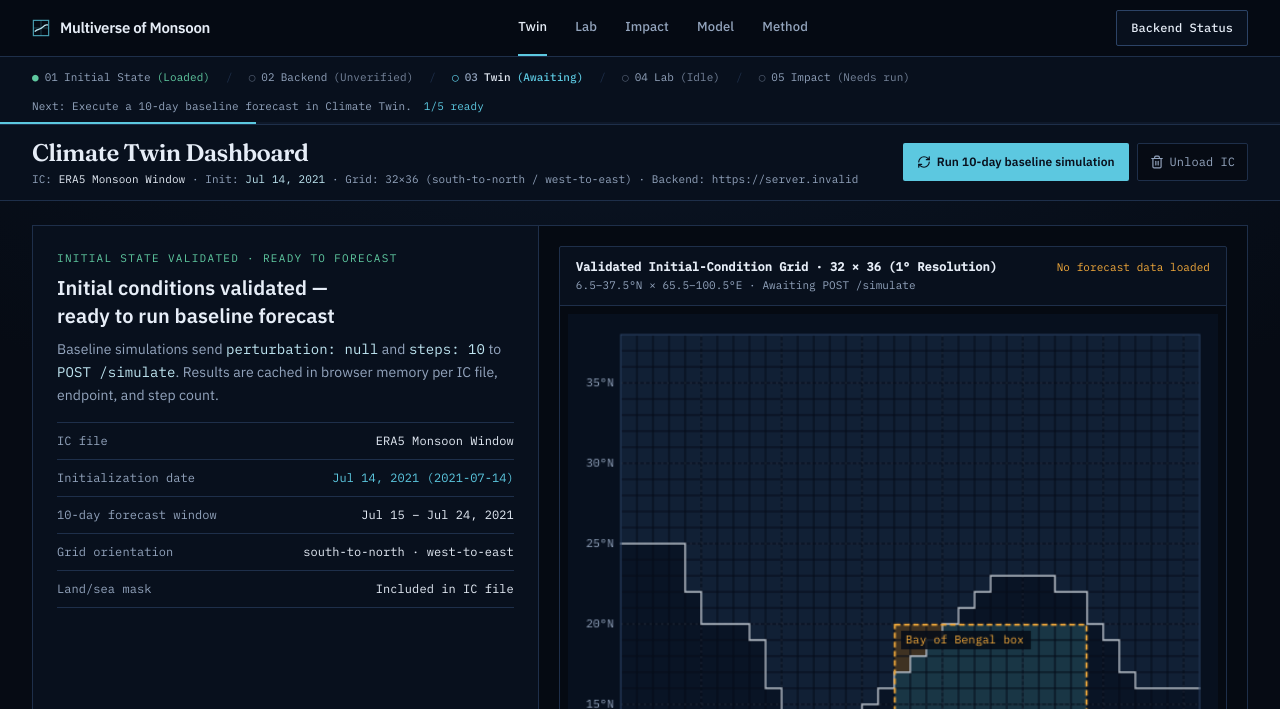
Phase 2A Climate Twin Dashboard (/twin) › derives and renders accurate calendar forecast dates from IC init_date on /twin
Earlier steps of the test are not shown.
expect the text "Jul 14, 2021 (2021-07-14)" is shown: met, box [332,470,514,486]
expect the text "Jul 15 – Jul 24, 2021" is shown: met, box [361,507,514,523]
Step 1. Click the button "Run 10-day baseline simulation" → (1016, 162), box [903,143,1129,181]
(page scrolled)
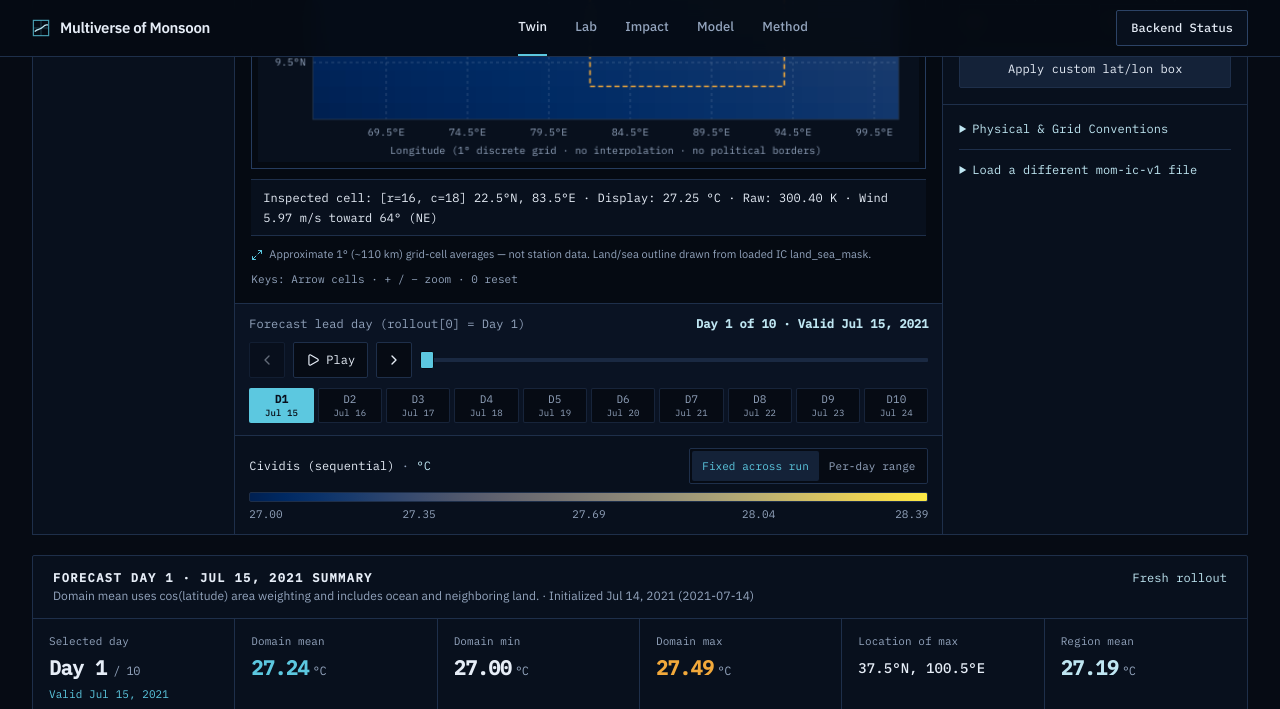
Step 2. Click the button named "Next forecast day" → (394, 360), box [376,342,412,378]
(page scrolled)
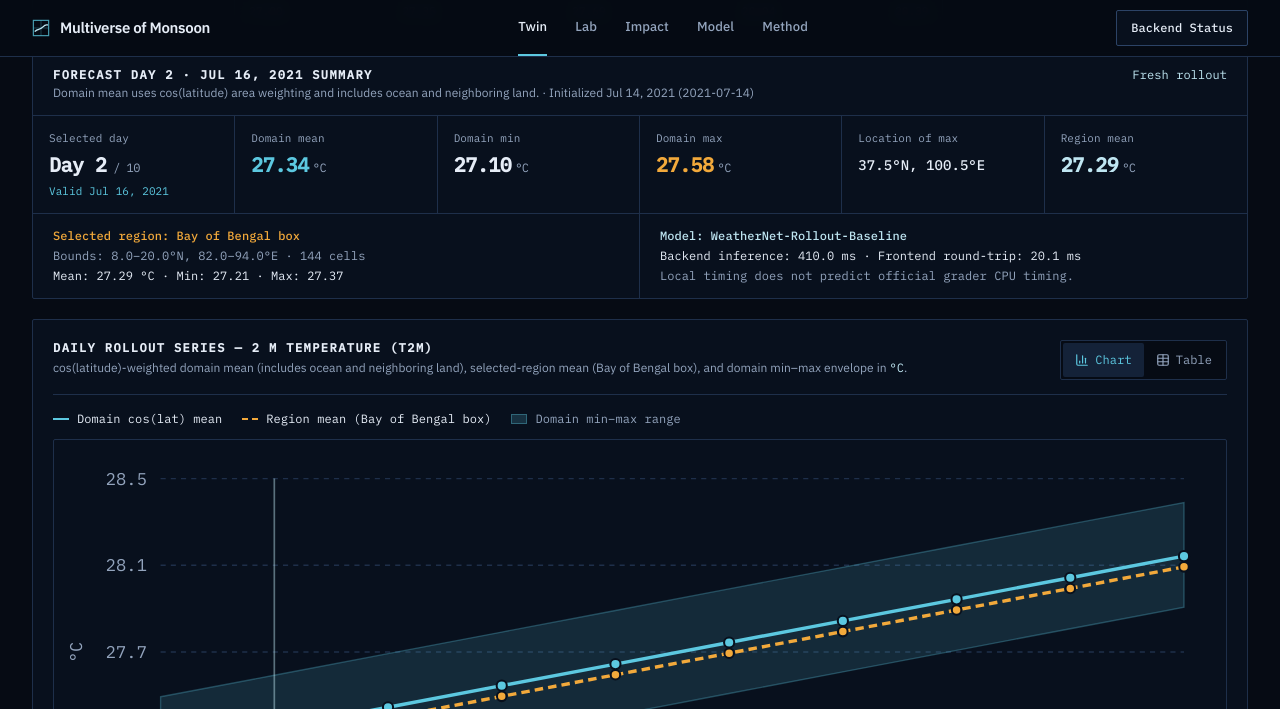
Step 3. Click the button "Table" → (1184, 360), box [1144,343,1224,377]
(page scrolled)
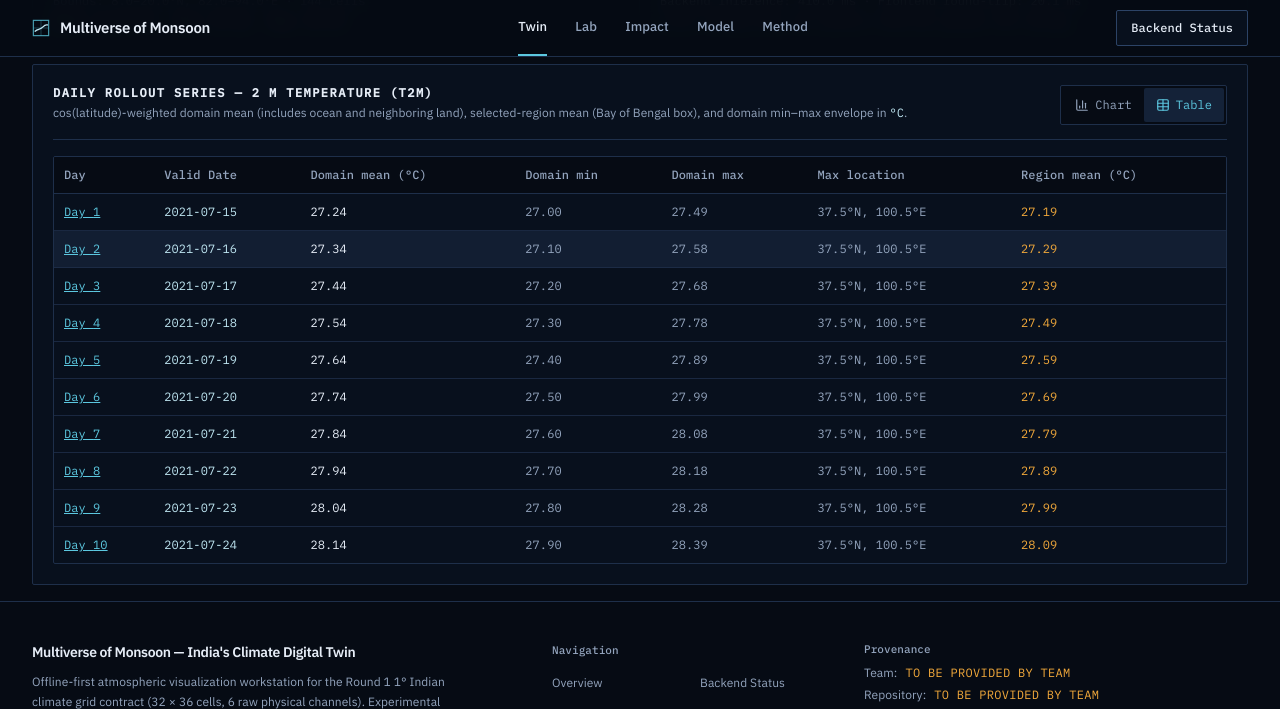
expect the table with test id "timeseries-data-table" shows "Valid Date": met, box [164,167,237,182]
expect the table with test id "timeseries-data-table" shows "2021-07-15": met, box [164,204,237,219]
